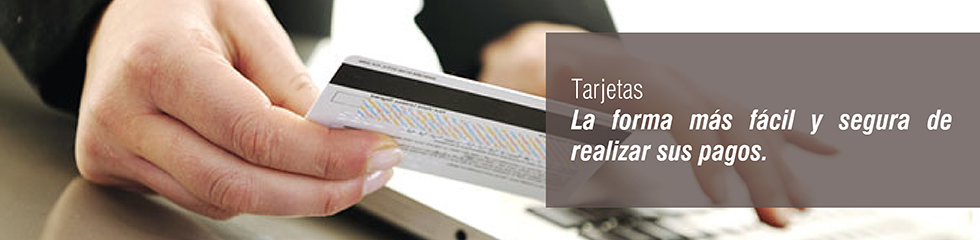tarjeta: (302, 55, 634, 208)
